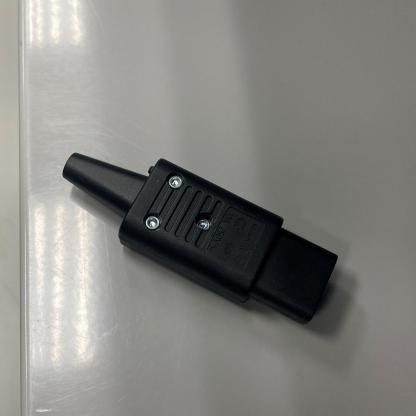SP0000006: (30, 103, 372, 368)
